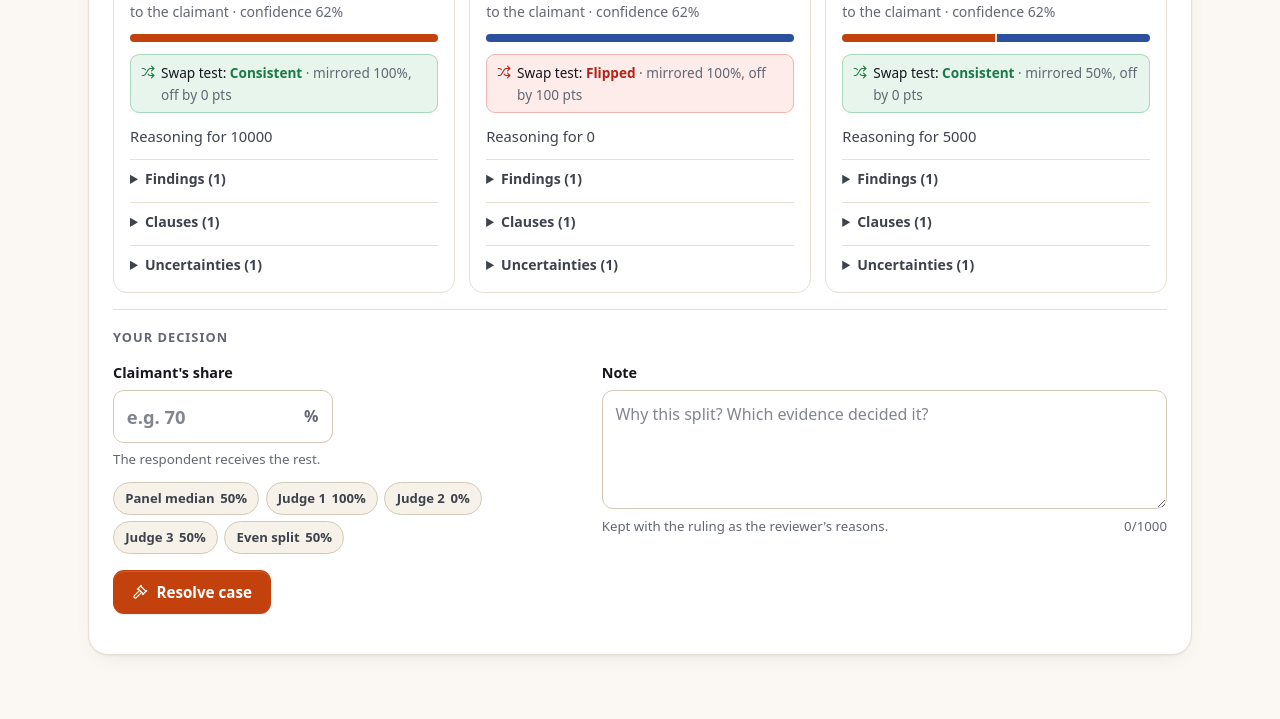
Test: the decision form › requires a share and a note before anything is sent
(page scrolled)
Click the button with test id "resolve": [192, 592] box [113, 570, 271, 614]
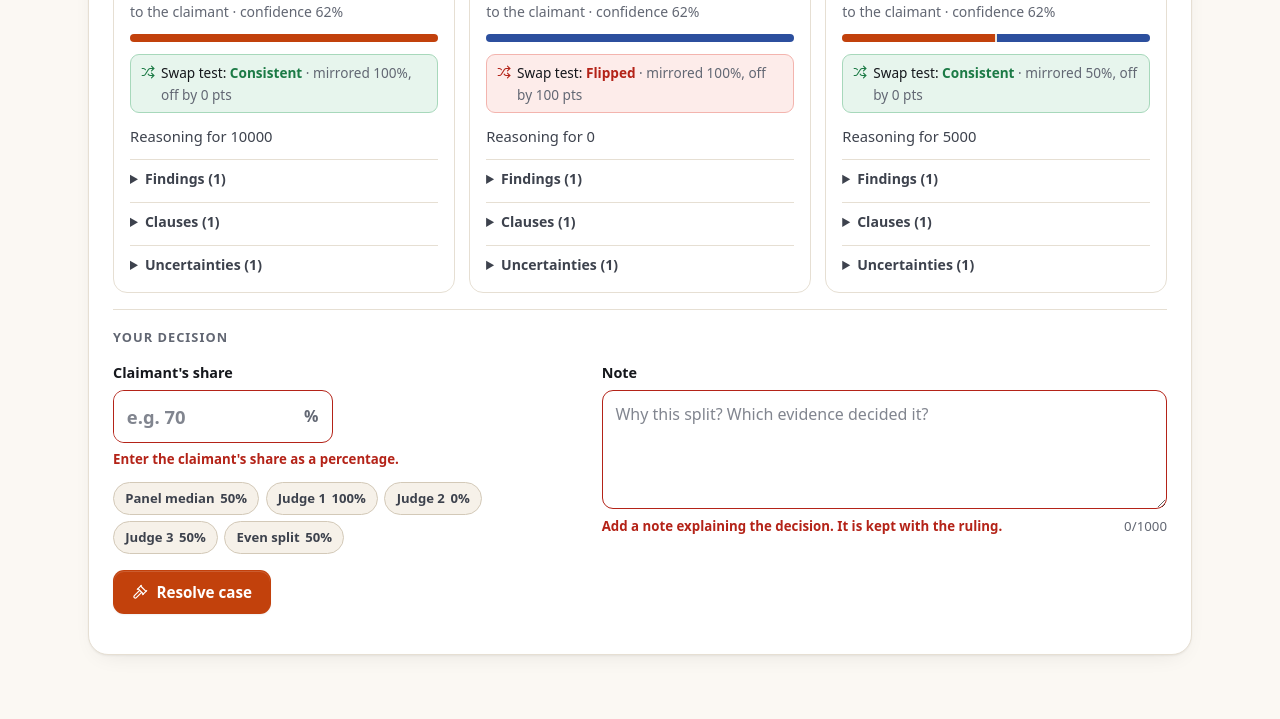
Check: the text "Enter the claimant's share as a percentage." is shown, box [113, 450, 399, 468]
Check: the text "Add a note explaining the decision. It is kept with the ruling." is shown, box [602, 516, 1002, 537]
